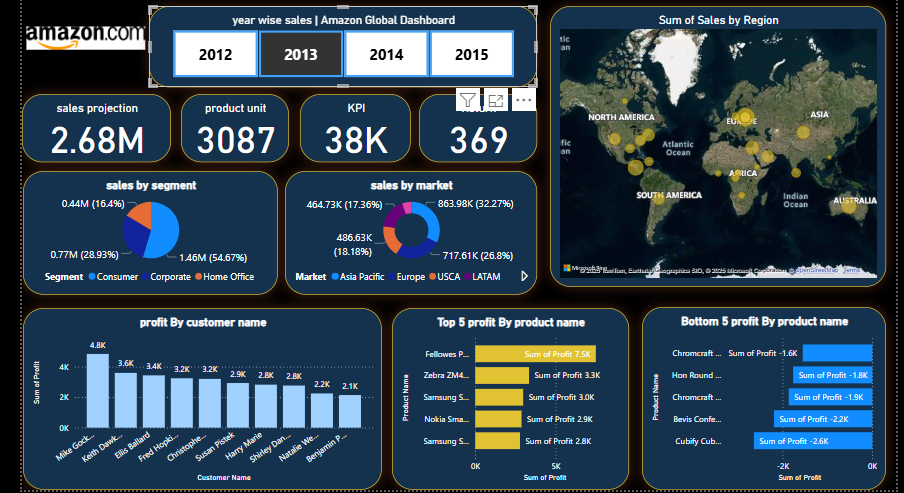

This screenshot's page, from the dashboard's own definition file:
{"tool":"powerbi","page":{"name":"Project 2 formating","canvas":[1280,720],"ordinal":1},"visuals":[{"type":"slicer","title":"year wise sales | Amazon Global Dashboard","fields":{"Values":["Orders.year"]},"box":[185.9,11.7,567.8,118.5],"z":0},{"type":"image","box":[1.5,11.7,184.4,93.7],"z":1000},{"type":"card","title":"sales projection","fields":{"Values":["Orders.Sales"]},"box":[0,140.5,218,99.5],"z":2000},{"type":"card","title":"product unit","fields":{"Values":["Orders.Product Name"]},"box":[232.7,140.5,158,99.5],"z":3000},{"type":"card","title":"KPI","fields":{"Values":["Orders.Quantity"]},"box":[406.8,140.5,162.4,99.5],"z":4000},{"type":"card","title":"Return","fields":{"Values":["Orders.Ship Date"]},"box":[581,140.5,172.7,99.5],"z":5000},{"type":"pieChart","title":"sales by segment","fields":{"Y":["Orders.Sales"],"Category":["Orders.Segment"]},"box":[1.5,253.2,373.2,181.5],"z":6000},{"type":"donutChart","title":"sales by market","fields":{"Y":["Orders.Sales"],"Category":["Orders.Market"]},"box":[384.9,253.2,368.8,181.5],"z":7000},{"type":"columnChart","title":"profit By customer name","fields":{"Category":["Orders.Customer Name"],"Y":["Orders.Profit"]},"box":[1.5,453.7,525.4,266.3],"z":8000},{"type":"clusteredBarChart","title":" Top 5 profit By product name","fields":{"Y":["Orders.Profit"],"Category":["Orders.Product Name"]},"box":[541.5,453.7,346.8,266.3],"z":9000},{"type":"clusteredBarChart","title":" Bottom 5 profit By product name","fields":{"Y":["Orders.Profit"],"Category":["Orders.Product Name"]},"box":[907.3,452.2,357.1,267.8],"z":10000},{"type":"map","fields":{"Category":["Orders.Region"],"Size":["Orders.Sales"]},"box":[772.7,11.7,491.7,411.2],"z":11000}]}

Visuals, with their boxes on the page's 1280x720 design canvas (x1, y1, x2, y2). These are canvas units, not pixel positions in the 904x493 screenshot, which may show the page scaled, cropped or inside an application window:
"year wise sales | Amazon Global Dashboard" slicer: {"x1": 186, "y1": 12, "x2": 754, "y2": 130}
image: {"x1": 2, "y1": 12, "x2": 186, "y2": 105}
"sales projection" card: {"x1": 0, "y1": 140, "x2": 218, "y2": 240}
"product unit" card: {"x1": 233, "y1": 140, "x2": 391, "y2": 240}
"KPI" card: {"x1": 407, "y1": 140, "x2": 569, "y2": 240}
"Return" card: {"x1": 581, "y1": 140, "x2": 754, "y2": 240}
"sales by segment" pieChart: {"x1": 2, "y1": 253, "x2": 375, "y2": 435}
"sales by market" donutChart: {"x1": 385, "y1": 253, "x2": 754, "y2": 435}
"profit By customer name" columnChart: {"x1": 2, "y1": 454, "x2": 527, "y2": 720}
" Top 5 profit By product name" clusteredBarChart: {"x1": 542, "y1": 454, "x2": 888, "y2": 720}
" Bottom 5 profit By product name" clusteredBarChart: {"x1": 907, "y1": 452, "x2": 1264, "y2": 720}
map - Orders.Region x Orders.Sales: {"x1": 773, "y1": 12, "x2": 1264, "y2": 423}
